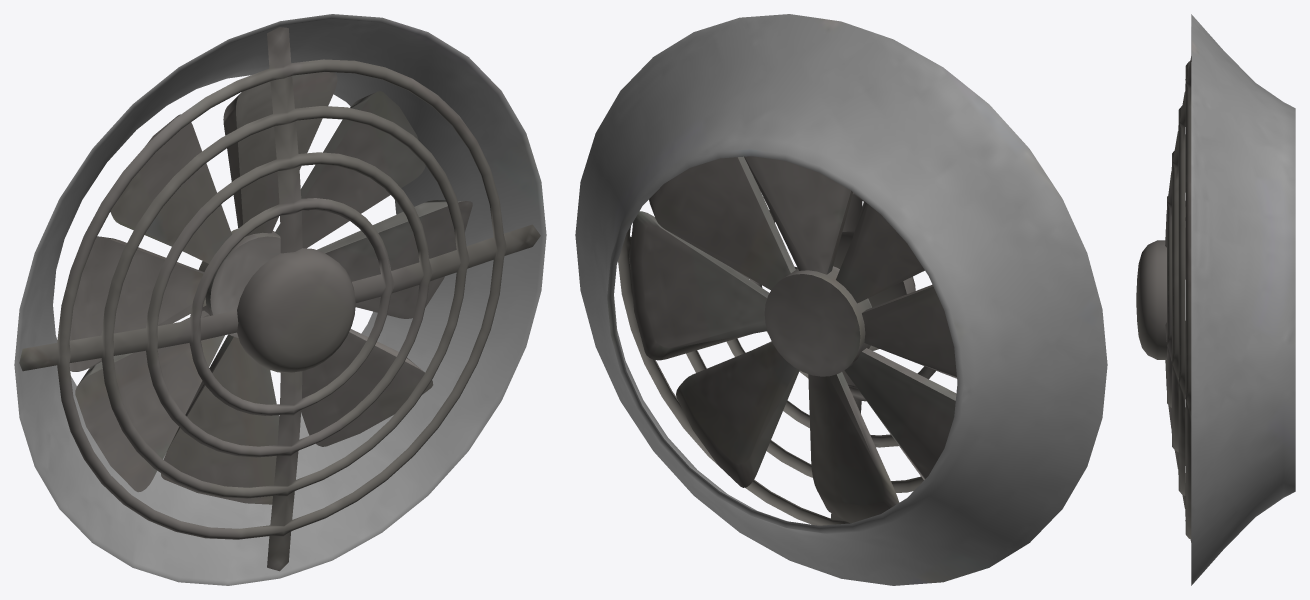
File: circular_fan.gltf
3 views of the same model, side by side, from view 1: azimuth 30°, elevation 25°; view 2: azimuth 150°, elevation 25°; view 3: azimuth 270°, elevation 25° (orthographic). The views are drawn at different scales.
Parts seen in each view (by area): view 1: circular_fan; view 2: circular_fan; view 3: circular_fan.
Part boxes in pixels (<box>): circular_fan: <box>14,14,546,585</box>; circular_fan: <box>575,14,1107,585</box>; circular_fan: <box>1136,14,1295,585</box>.
Size of the model in its own units: 0.5428 by 0.5432 by 0.1511.
Materials: 1 (1 with a texture image).
